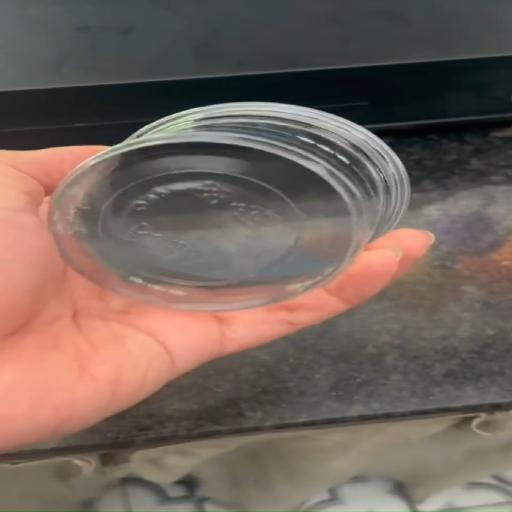ly_nhua: (49, 101, 410, 311)
